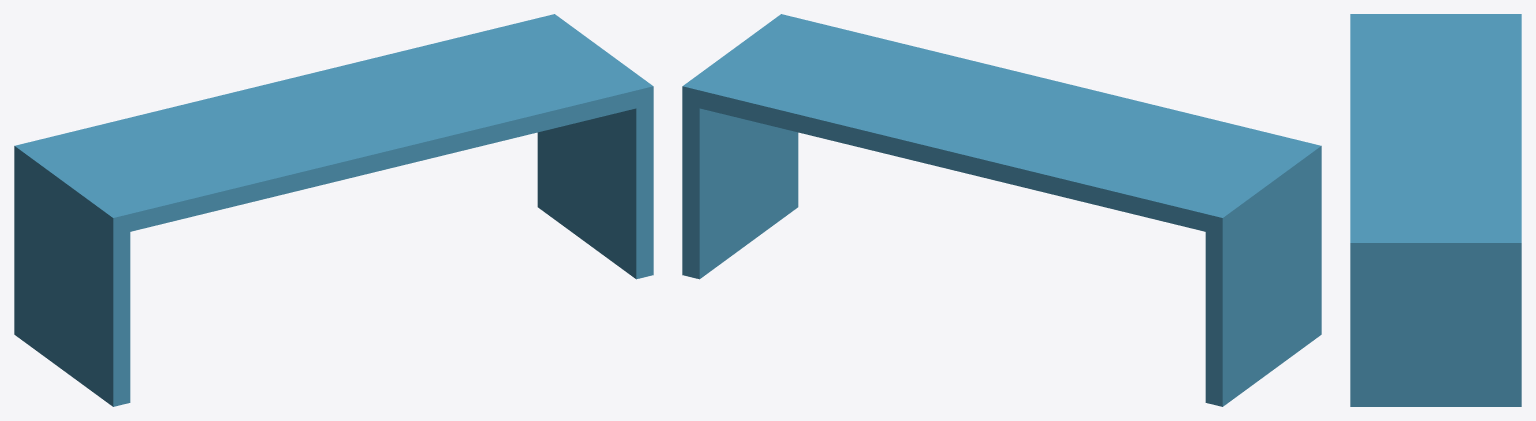
Rendered from deskcolored.fbx.
The picture shows the model from 3 angles, left to right: view 1: azimuth 30°, elevation 25°; view 2: azimuth 150°, elevation 25°; view 3: azimuth 270°, elevation 25°; orthographic projection. The views are drawn at different scales.
Parts seen in each view (by area): view 1: deskcolor_01; view 2: deskcolor_01; view 3: deskcolor_01.
Part boxes in pixels (box(x1,y1,x2,y2)): deskcolor_01: box(14, 14, 653, 406); deskcolor_01: box(682, 14, 1321, 406); deskcolor_01: box(1350, 14, 1521, 406).
Size of the model in its own units: 251 by 83.92 by 79.5.
